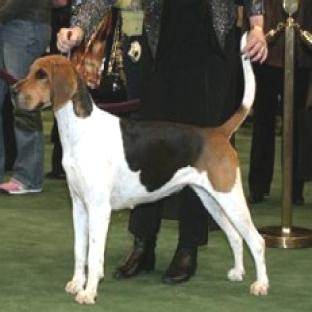Animal: (14, 53, 266, 303)
